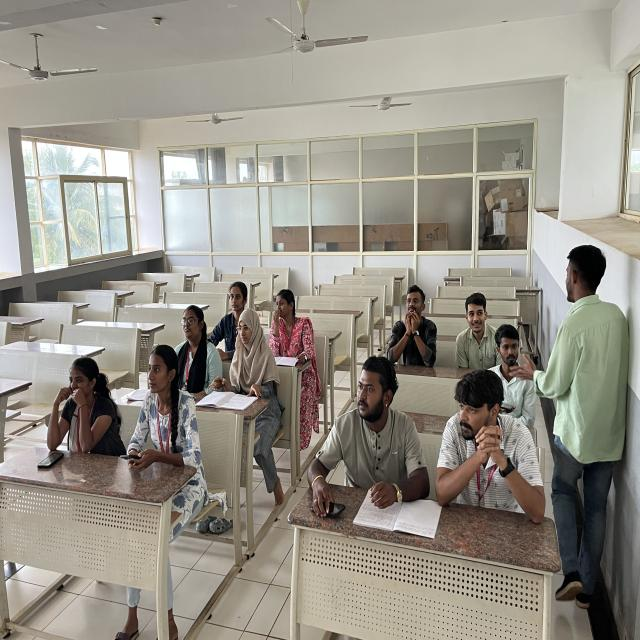Using Phone: (123, 354, 189, 471), (202, 315, 277, 394)
